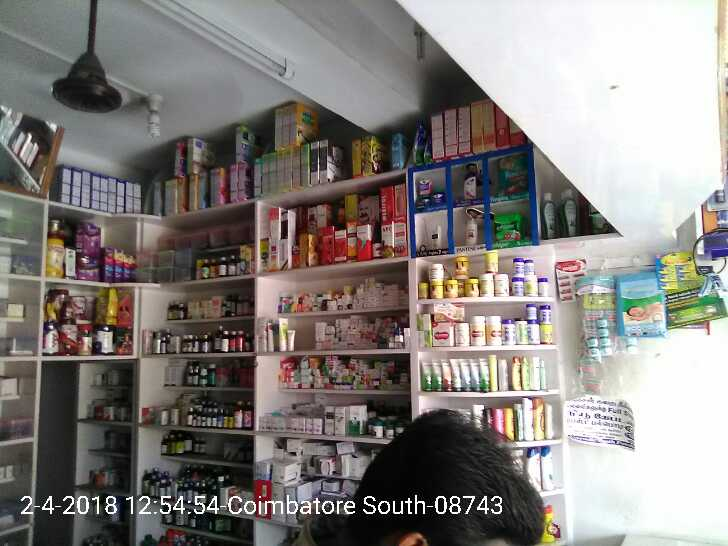vicks: (417, 179, 448, 203)
